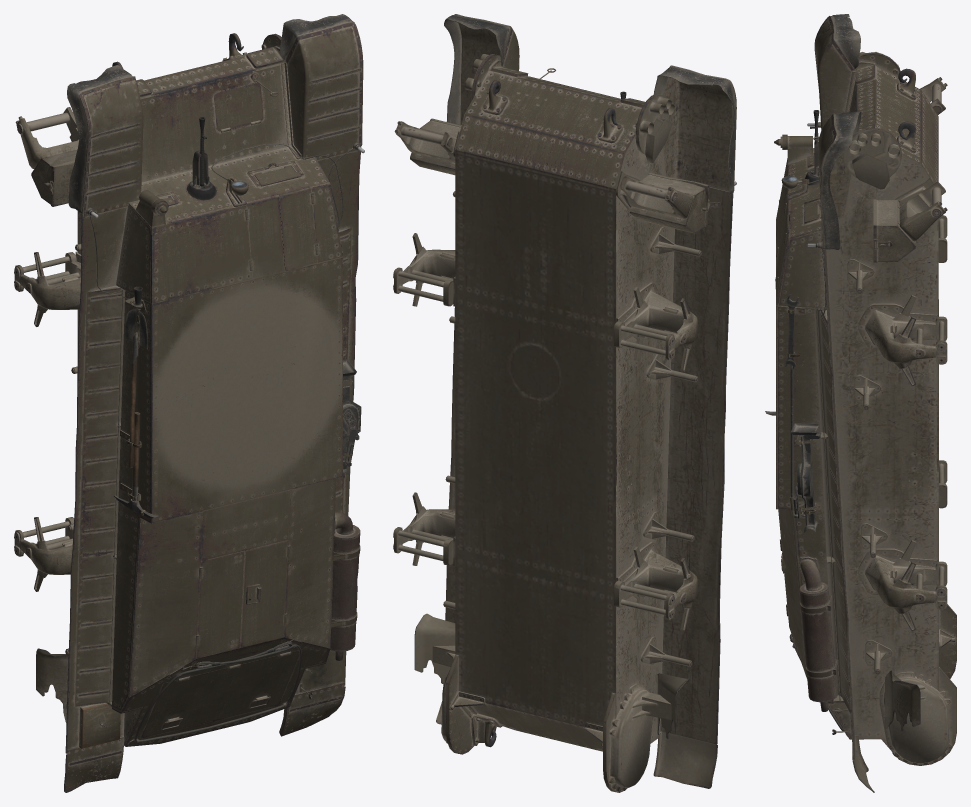
File: Hull.glb
3 renders of one model, left to right at view 1: azimuth 30°, elevation 25°; view 2: azimuth 150°, elevation 25°; view 3: azimuth 270°, elevation 25°, orthographic. The views are drawn at different scales.
Visible parts, largest first — view 1: set_0_group_0; view 2: set_0_group_0; view 3: set_0_group_0.
Boxes of the visible parts, x1,y1,x2,y2 form: set_0_group_0: (14, 14, 364, 792); set_0_group_0: (393, 14, 736, 792); set_0_group_0: (765, 14, 956, 792).
Size of the model in its own units: 2.11 by 4.96 by 1.3.
1 material, 1 textured.
